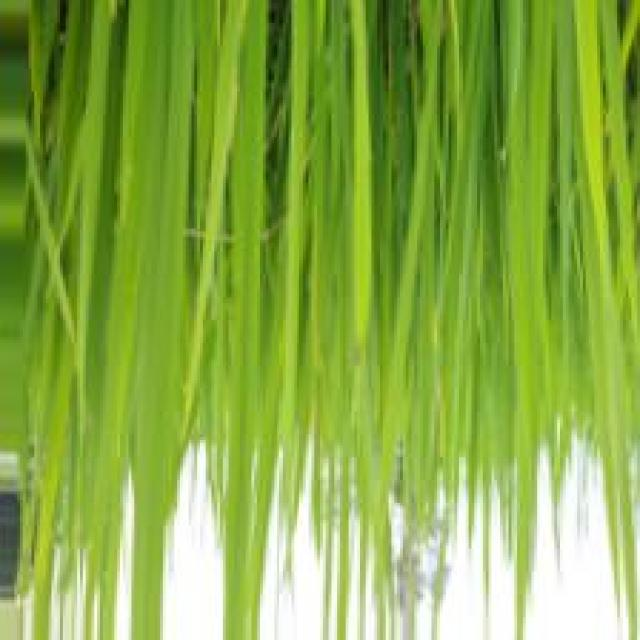HealthyLeaf: (120, 1, 194, 301), (510, 0, 551, 195)
